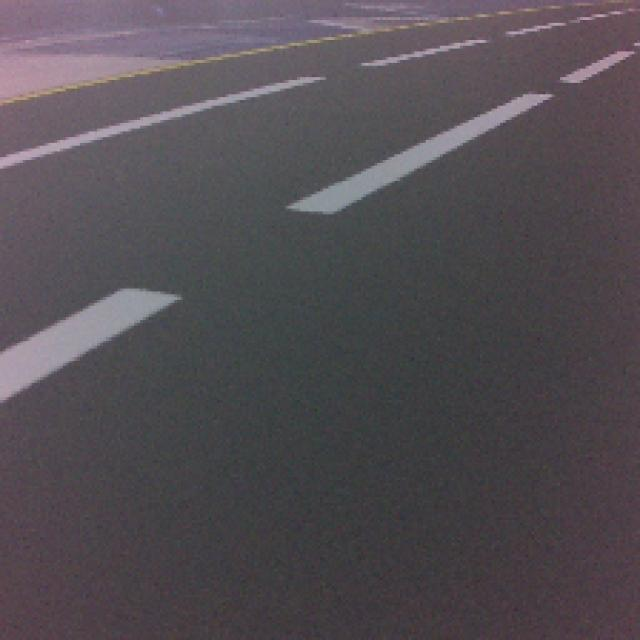Road: (0, 395, 639, 637)
